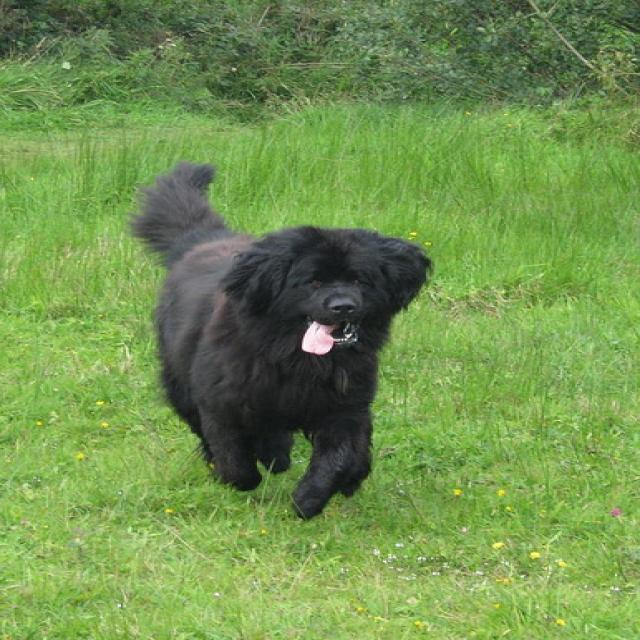dog-newfoundland: (114, 155, 434, 531)
